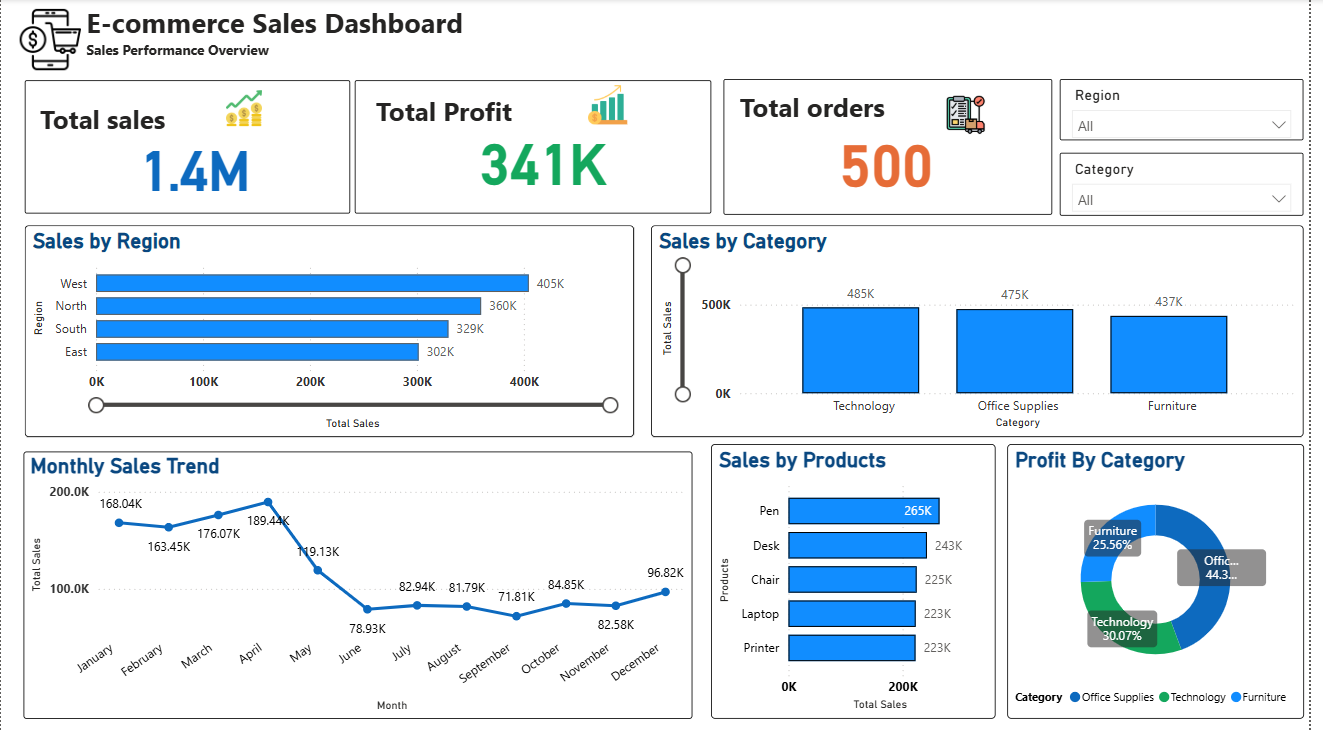

This screenshot's page, from the dashboard's own definition file:
{"tool":"powerbi","page":{"name":"sales analysis","canvas":[1280,720],"ordinal":0},"visuals":[{"type":"actionButton","box":[0,0,100,40],"z":0},{"type":"group","id":"g1","title":"Group 4","box":[5,0,1093.8,65],"z":0,"group":"g5"},{"type":"card","title":"Total sales ","fields":{"Values":["Sum(orders csv.Sales)"]},"box":[22.9,80,318.6,130],"z":0,"group":"g3"},{"type":"card","title":"Total Profit","fields":{"Values":["Sum(orders csv.Profit)"]},"box":[345.7,80.3,348.6,130],"z":0,"group":"g2"},{"type":"image","box":[13.8,5,70,70],"z":1000,"group":"g5"},{"type":"card","title":"Total orders","fields":{"Values":["CountNonNull(orders csv.Order_ID)"]},"box":[706.9,78,321.4,132.9],"z":1000,"group":"g4"},{"type":"barChart","title":"Sales by Region","fields":{"Category":["orders csv.Region"],"Y":["Sum(orders csv.Sales)"]},"box":[22.9,221.4,595.7,207.1],"z":1000},{"type":"columnChart","title":"Sales by Category","fields":{"Category":["orders csv.Category"],"Y":["Sum(orders csv.Sales)"]},"box":[635.7,221.4,638.6,207.1],"z":2000},{"type":"lineChart","title":"Monthly Sales Trend","fields":{"Category":["orders csv.Order_Date.Variation.Date Hierarchy.Month"],"Y":["Sum(orders csv.Sales)"]},"box":[21.4,442.9,654.3,261.4],"z":3000},{"type":"donutChart","title":"Profit By Category","fields":{"Y":["Sum(orders csv.Profit)"],"Category":["orders csv.Category"]},"box":[984.3,435.7,290,268.6],"z":4000},{"type":"slicer","fields":{"Values":["orders csv.Region"]},"box":[1035.7,78.6,238.6,60],"z":5000},{"type":"slicer","fields":{"Values":["orders csv.Category"]},"box":[1035.7,150,238.6,61.4],"z":6000},{"type":"group","id":"g2","title":"Group 2","box":[345.7,80,348.6,130],"z":7000},{"type":"image","box":[16.2,0,67.5,65],"z":8000,"group":"g1"},{"type":"group","id":"g3","title":"Group 1","box":[22.9,80,318.6,130],"z":8000},{"type":"group","id":"g4","title":"Group 3","box":[706.9,78,321.4,132.9],"z":9000},{"type":"image","box":[903.9,89,80.4,48.3],"z":9000,"group":"g4"},{"type":"group","id":"g5","title":"Group 5","box":[5,0,1093.8,75],"z":10000},{"type":"image","box":[550.2,80,86.4,48.6],"z":10000,"group":"g2"},{"type":"barChart","title":"Sales by Products","fields":{"Category":["orders csv.Product_Name"],"Y":["Sum(orders csv.Sales)"]},"box":[694.3,435.7,278.6,268.6],"z":10001},{"type":"textbox","box":[5,0,1093.8,63.8],"z":11001,"group":"g1"},{"type":"image","box":[199.4,85.1,77,44.9],"z":13002,"group":"g3"}]}

Visuals, with their boxes in screenshot pixels (x1, y1, x2, y2), scaled from the page's 1280x720 canvas onto the 1323x731 screenshot:
actionButton: left=0, top=0, right=103, bottom=41
"Group 4" group: left=5, top=0, right=1136, bottom=66
"Total sales " card: left=24, top=81, right=353, bottom=213
"Total Profit" card: left=357, top=82, right=718, bottom=214
image: left=14, top=5, right=87, bottom=76
"Total orders" card: left=731, top=79, right=1063, bottom=214
"Sales by Region" barChart: left=24, top=225, right=639, bottom=435
"Sales by Category" columnChart: left=657, top=225, right=1317, bottom=435
"Monthly Sales Trend" lineChart: left=22, top=450, right=698, bottom=715
"Profit By Category" donutChart: left=1017, top=442, right=1317, bottom=715
slicer - orders csv.Region: left=1070, top=80, right=1317, bottom=141
slicer - orders csv.Category: left=1070, top=152, right=1317, bottom=215
"Group 2" group: left=357, top=81, right=718, bottom=213
image: left=17, top=0, right=87, bottom=66
"Group 1" group: left=24, top=81, right=353, bottom=213
"Group 3" group: left=731, top=79, right=1063, bottom=214
image: left=934, top=90, right=1017, bottom=139
"Group 5" group: left=5, top=0, right=1136, bottom=76
image: left=569, top=81, right=658, bottom=131
"Sales by Products" barChart: left=718, top=442, right=1006, bottom=715
textbox: left=5, top=0, right=1136, bottom=65
image: left=206, top=86, right=286, bottom=132
